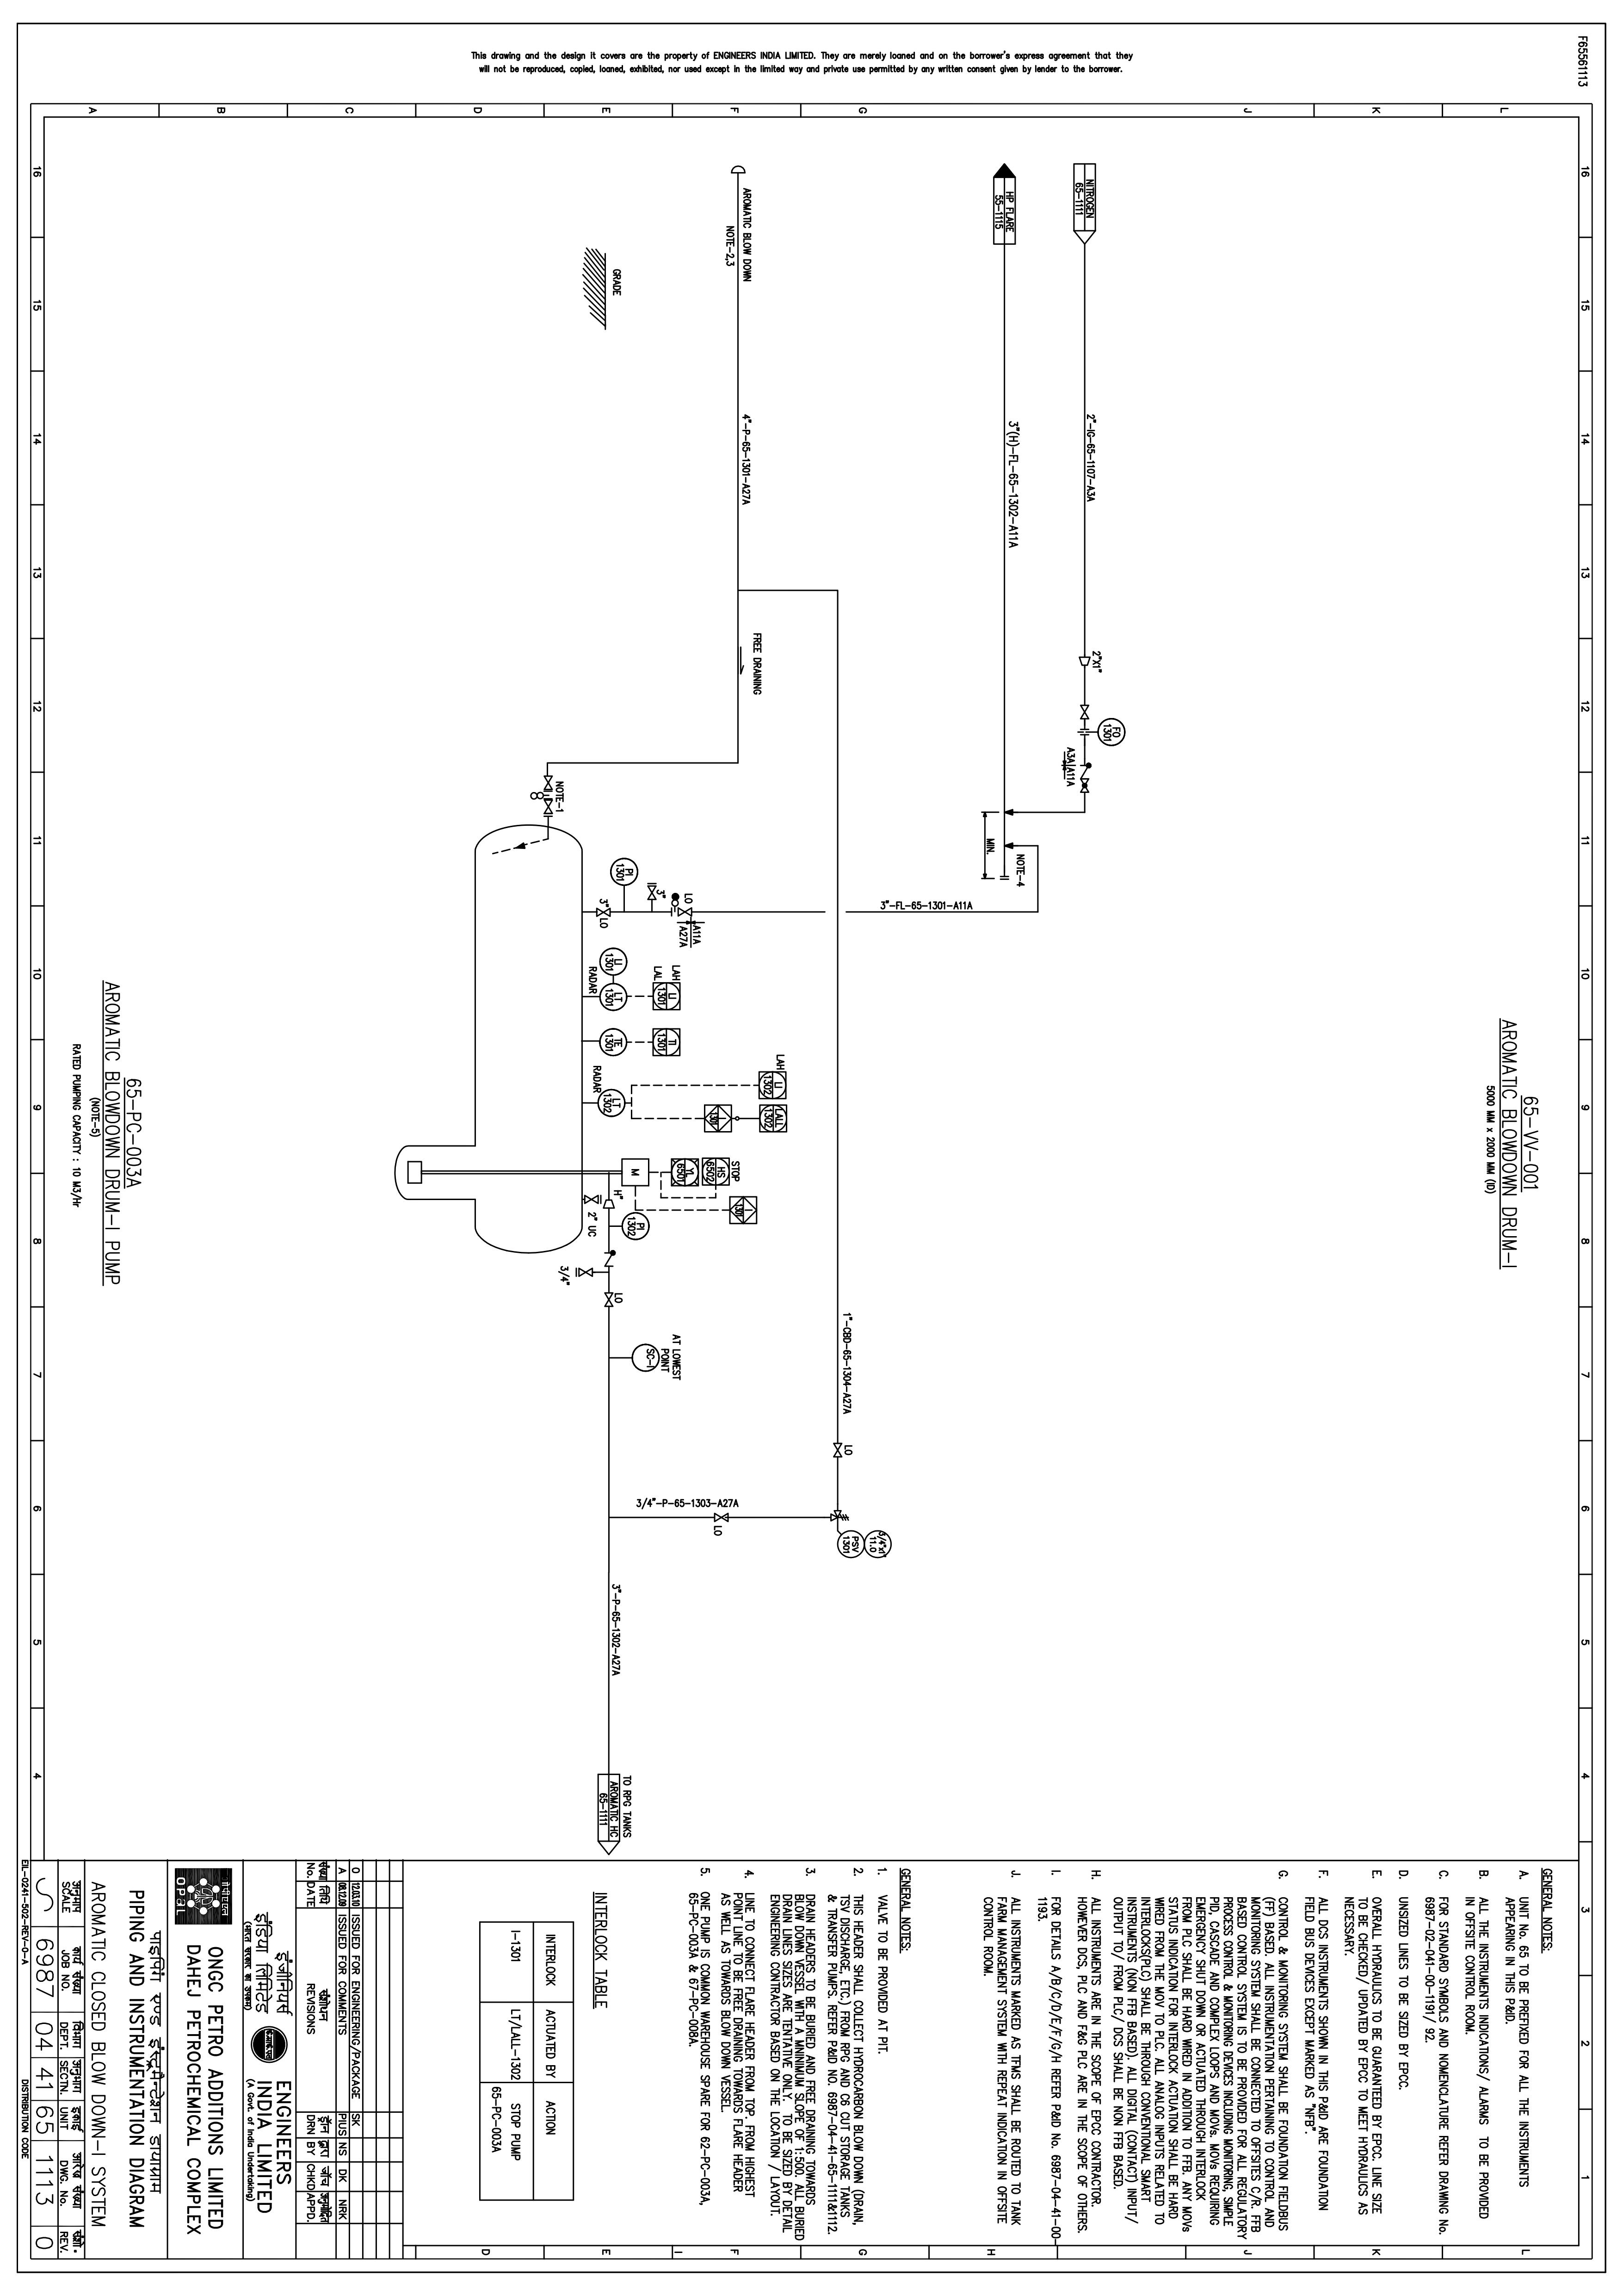ball valve: (1077, 761, 1098, 798), (822, 1507, 857, 1525), (1077, 694, 1093, 726), (641, 878, 659, 906), (592, 905, 617, 924), (571, 1263, 595, 1282), (597, 1284, 615, 1310), (671, 905, 697, 921), (708, 1511, 736, 1525), (831, 1437, 845, 1463), (541, 769, 555, 794), (539, 796, 553, 820), (581, 1193, 602, 1209), (1080, 646, 1091, 671), (602, 1198, 617, 1212)
